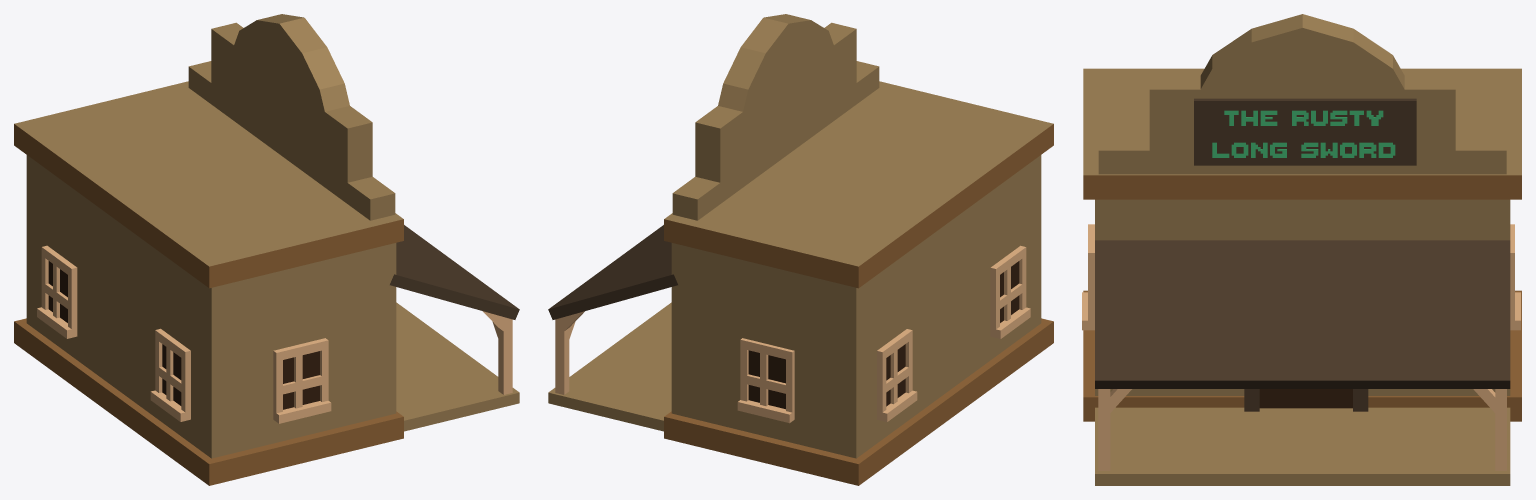
Rendered from RustyLongsword-Saloon.fbx.
3 views of the same model, side by side, from view 1: azimuth 30°, elevation 25°; view 2: azimuth 150°, elevation 25°; view 3: azimuth 270°, elevation 25° (orthographic). The views are drawn at different scales.
Parts seen in each view (by area): view 1: Cube.011, Cube.013, Cube.022; view 2: Cube.011, Cube.013, Cube.022; view 3: Cube.011, Cube.022, Cube.013, Text.
Part boxes in pixels (left/top/right/bottom): Cube.011: left=14, top=14, right=519, bottom=485; Cube.013: left=37, top=245, right=512, bottom=423; Cube.022: left=390, top=225, right=519, bottom=319; Cube.011: left=548, top=14, right=1053, bottom=485; Cube.013: left=555, top=245, right=1030, bottom=423; Cube.022: left=548, top=225, right=677, bottom=319; Cube.011: left=1083, top=14, right=1521, bottom=485; Cube.022: left=1095, top=98, right=1510, bottom=411; Cube.013: left=1082, top=224, right=1520, bottom=470; Text: left=1212, top=110, right=1395, bottom=157.
Bounding box in the file's own units: 318 × 334 × 339.
